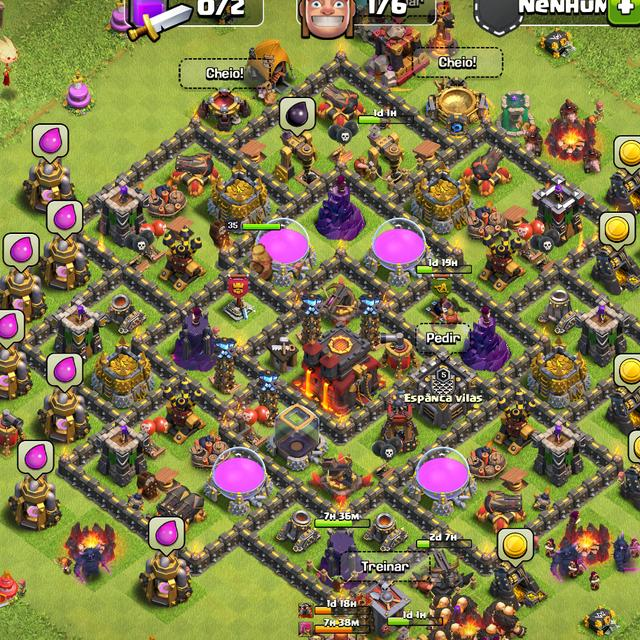Elixir: (47, 200, 83, 241), (46, 354, 83, 393), (148, 516, 184, 556), (4, 232, 39, 273), (32, 124, 68, 163), (17, 440, 52, 479), (0, 310, 27, 348)
ElixirNegro: (281, 97, 315, 138)
coin: (600, 212, 635, 251), (498, 528, 532, 568), (614, 353, 640, 394), (614, 135, 640, 175), (628, 429, 640, 462)
